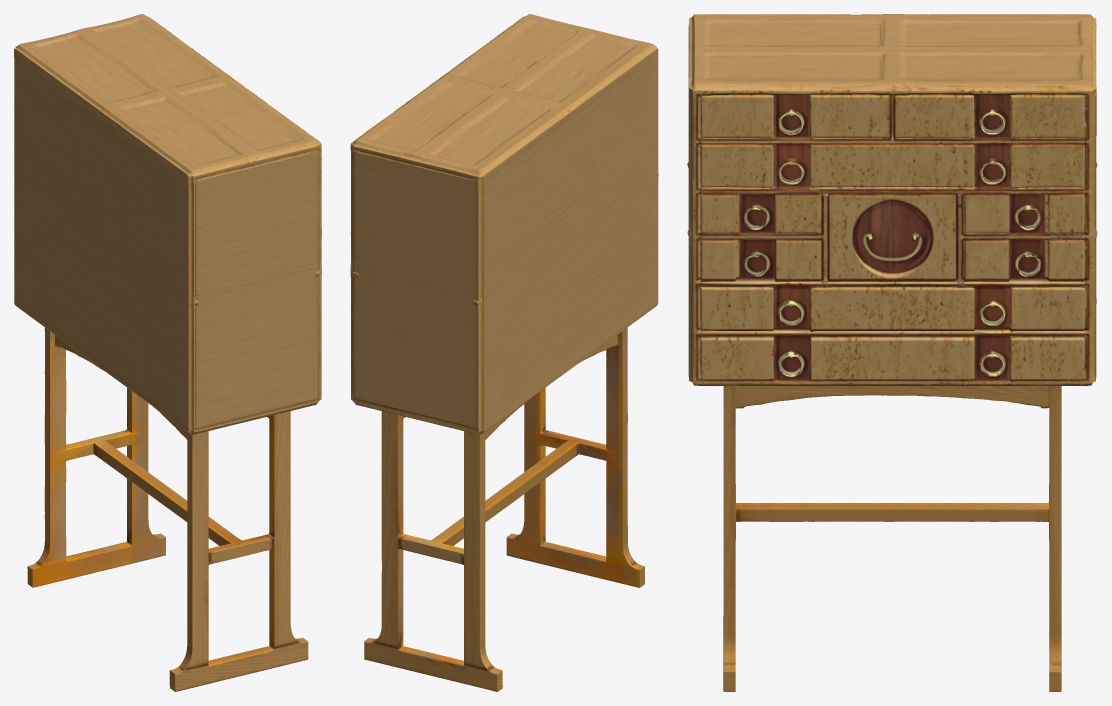
3 renders of one model, left to right at view 1: azimuth 30°, elevation 25°; view 2: azimuth 150°, elevation 25°; view 3: azimuth 270°, elevation 25°, orthographic. The views are drawn at different scales.
Parts seen in each view (by area): view 1: tripo_node_f850c3fc-5734-487c-9c97-82edb157434b; view 2: tripo_node_f850c3fc-5734-487c-9c97-82edb157434b; view 3: tripo_node_f850c3fc-5734-487c-9c97-82edb157434b.
Boxes of the visible parts, x1,y1,x2,y2 form: tripo_node_f850c3fc-5734-487c-9c97-82edb157434b: (14,14,321,691); tripo_node_f850c3fc-5734-487c-9c97-82edb157434b: (350,14,658,691); tripo_node_f850c3fc-5734-487c-9c97-82edb157434b: (687,14,1097,691).
Bounding box in the file's own units: 0.2698 × 1 × 0.6135.
Materials: 1 (1 with a texture image).
